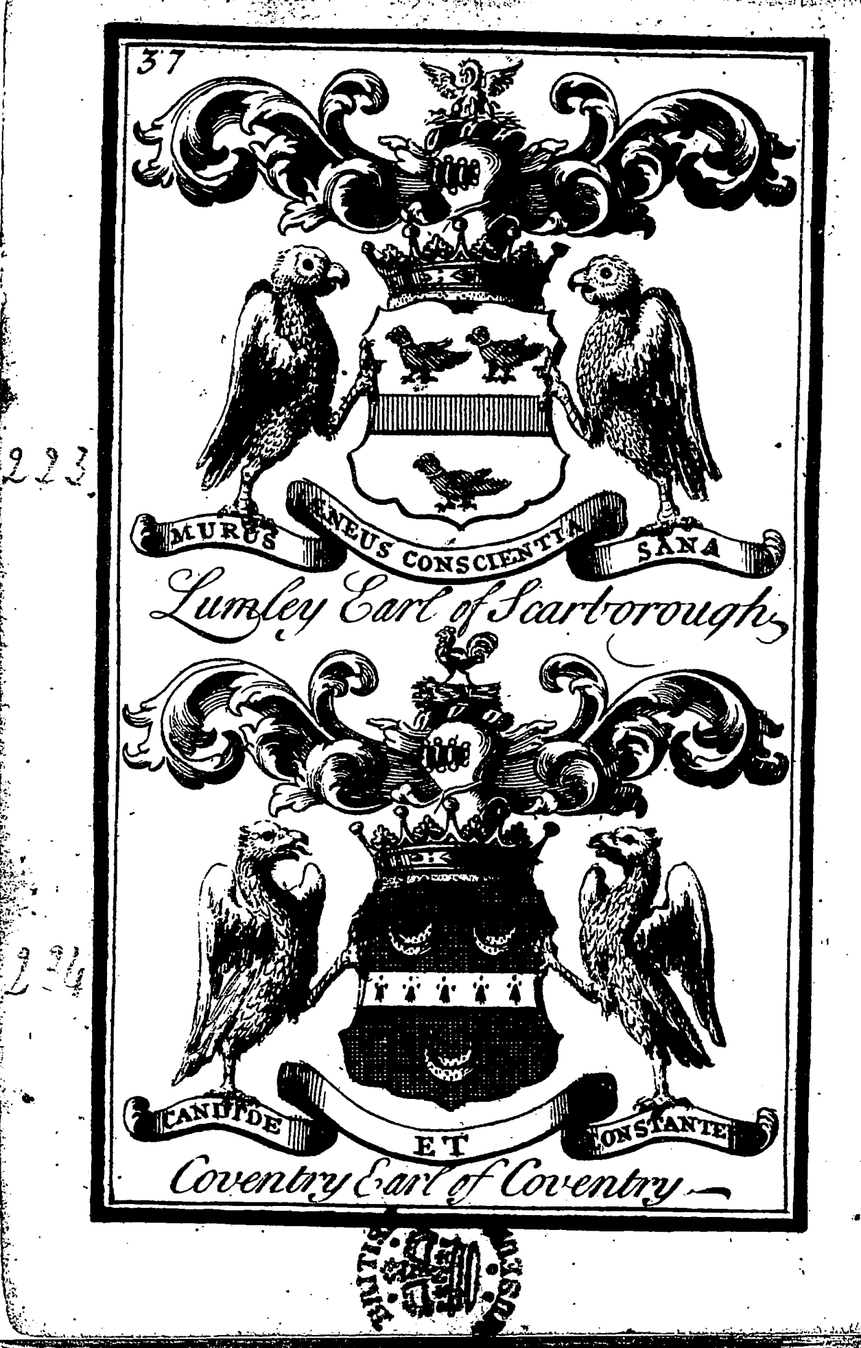coat_of_arms: (152, 61, 788, 649), (143, 640, 764, 1211)
